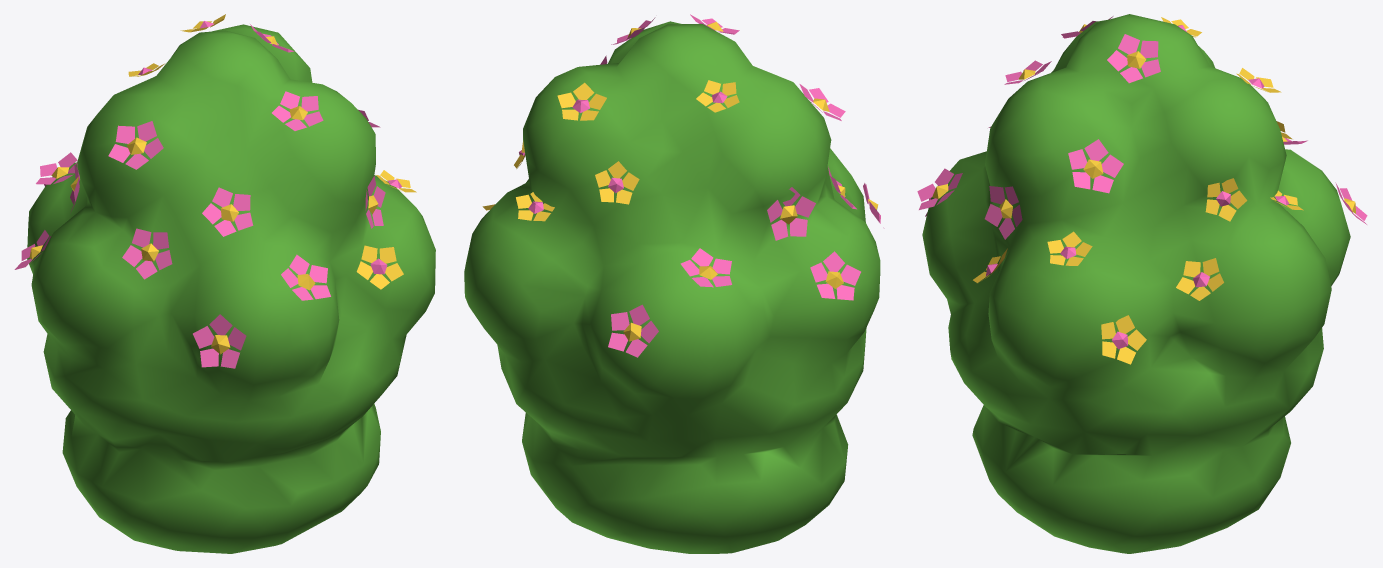
Rendered from bush_flower.glb.
The picture shows the model from 3 angles, left to right: view 1: azimuth 30°, elevation 25°; view 2: azimuth 150°, elevation 25°; view 3: azimuth 270°, elevation 25°; orthographic projection. The views are drawn at different scales.
Visible parts, largest first — view 1: bush_flower; view 2: bush_flower; view 3: bush_flower.
Boxes of the visible parts, x1,y1,x2,y2 form: bush_flower: (14, 14, 435, 553); bush_flower: (464, 14, 884, 553); bush_flower: (917, 14, 1367, 553).
Bounding box in the file's own units: 1.51 × 1.8 × 1.52.
